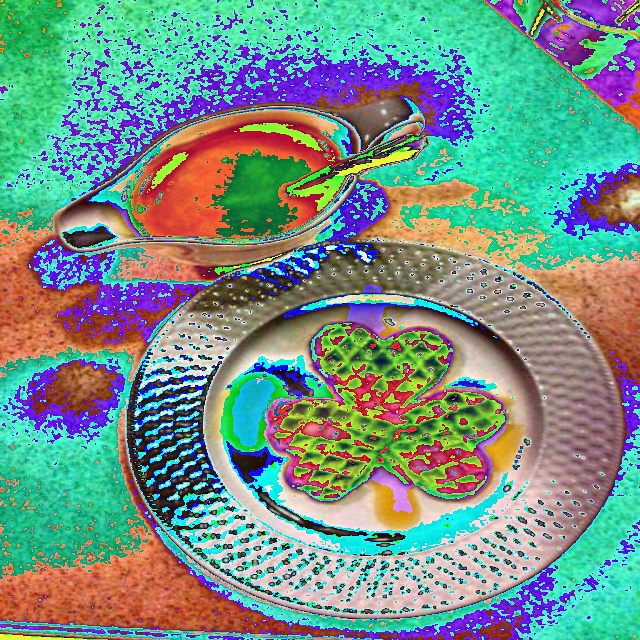background: (245, 179, 508, 503), (130, 119, 344, 243)
